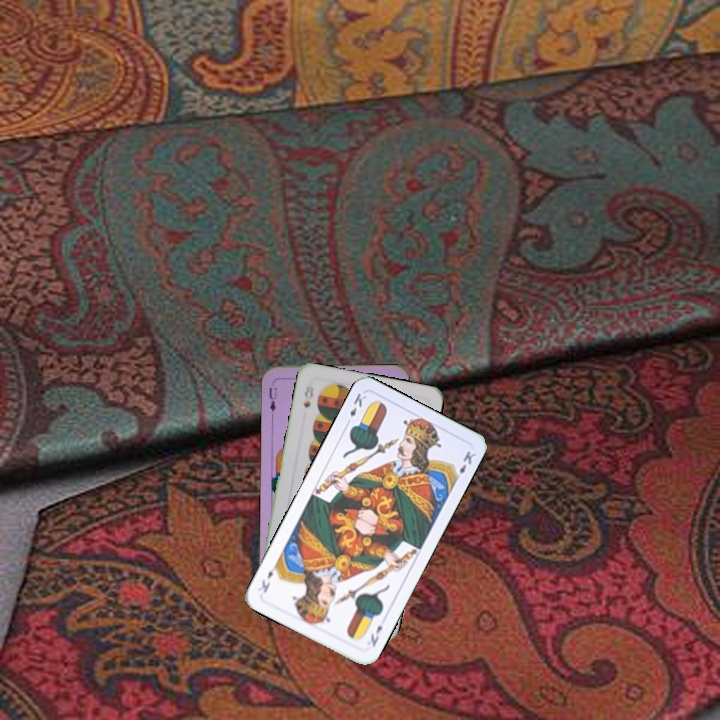EK: (342, 389, 369, 428), (366, 621, 385, 649)
EU: (265, 378, 279, 418)
S8: (300, 380, 316, 410)
